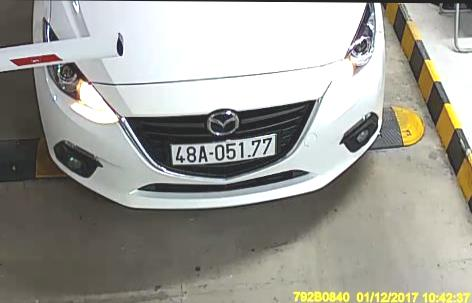License_Plate: (167, 135, 281, 166)
